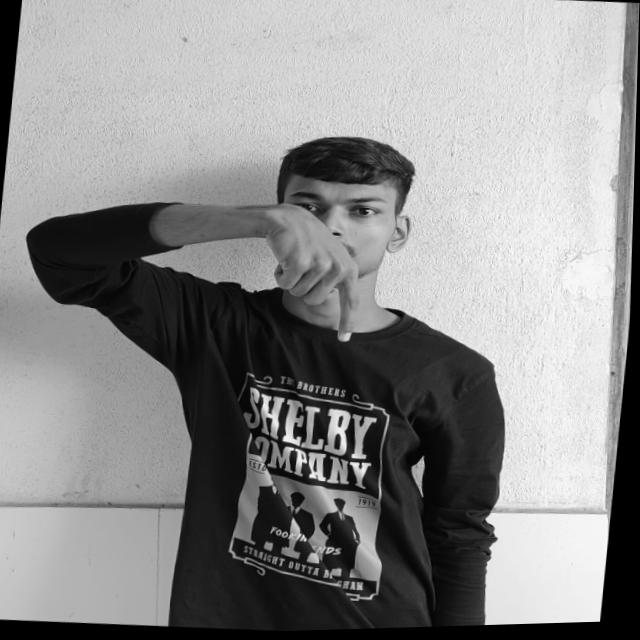Now: (252, 203, 374, 349)
